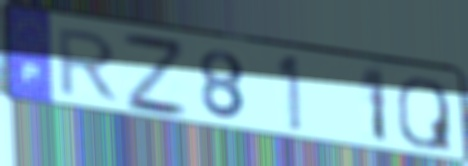1: (274, 53, 305, 138), (358, 65, 388, 147)
8: (198, 48, 248, 121)
Q: (395, 75, 455, 154)
R: (55, 26, 123, 106)
Z: (119, 29, 192, 121)
